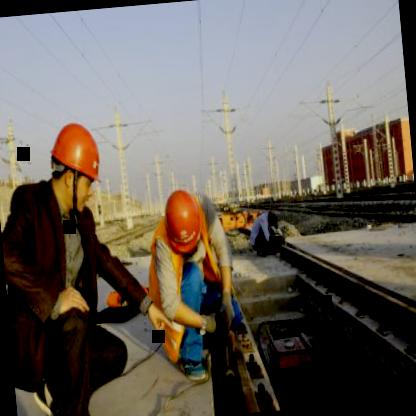helmet: (46, 116, 110, 217), (159, 184, 212, 270)
